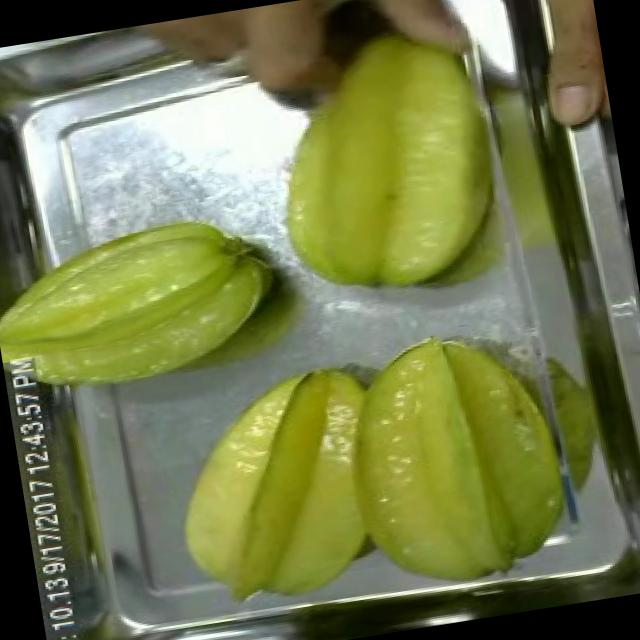fruit: (148, 328, 502, 626), (242, 0, 540, 325), (0, 189, 308, 419), (96, 0, 372, 132)
